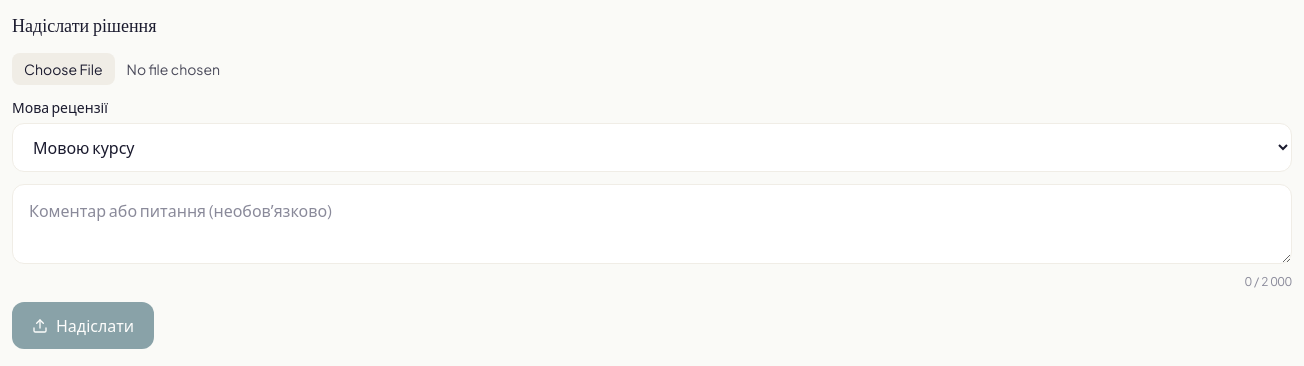
PortalSubmitForm — коментар (гаряче виправлення 6) › counts the comment under the field as the student types
The image size is (1304, 366).
Check: the text "0 / 2 000" is shown, box top-left (1245, 274), bottom-right (1292, 290)
Type "питання" into the text box labelled "Коментар". click: (652, 224)
box: top-left (12, 184), bottom-right (1292, 264)
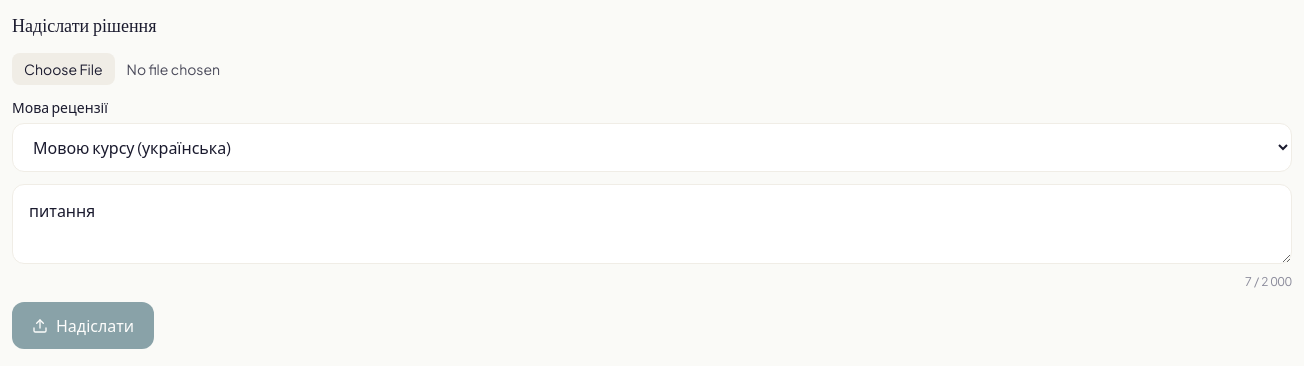
Check: the text "7 / 2 000" is shown, box top-left (1245, 274), bottom-right (1292, 290)
